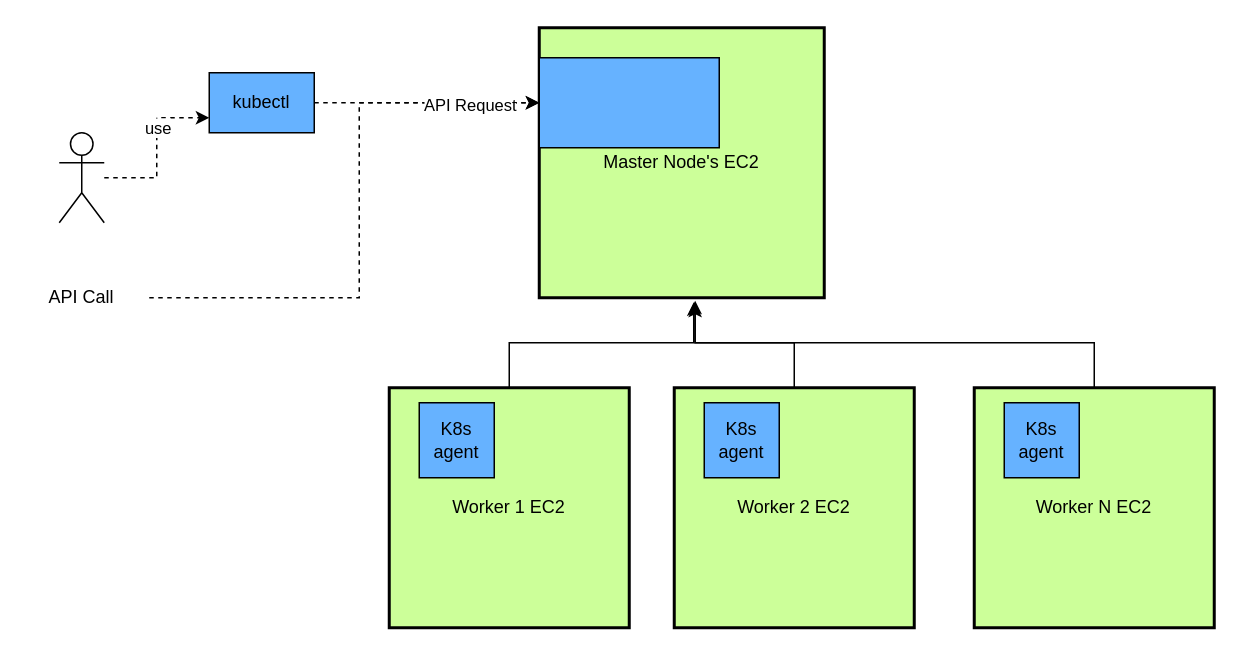
Some shapes in this 1242 by 654 pixel diagram are drawn without their labels. Each missing label, with the centre of its shape:
Cluster Admin: pixel 81 177
K8s API Server: pixel 628 102
